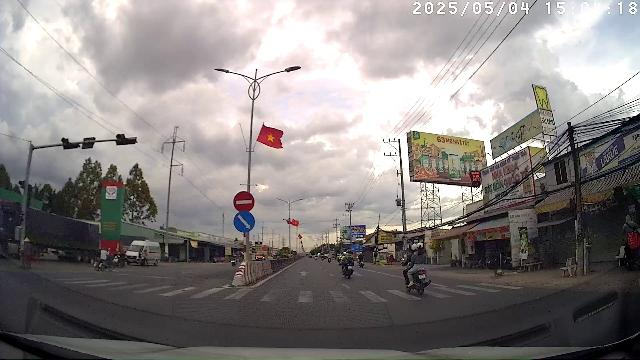102-cam-di-nguoc-chieu: (233, 190, 255, 211)
302a-huong-phai-di-vong-chuong-ngai-vat-1: (233, 211, 255, 232)
